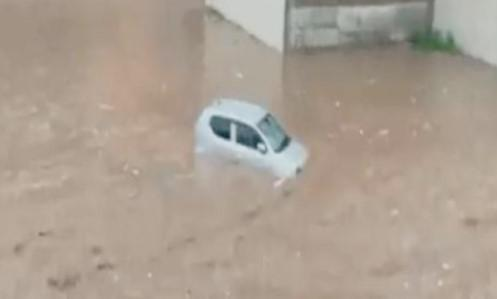water: (1, 0, 495, 297)
